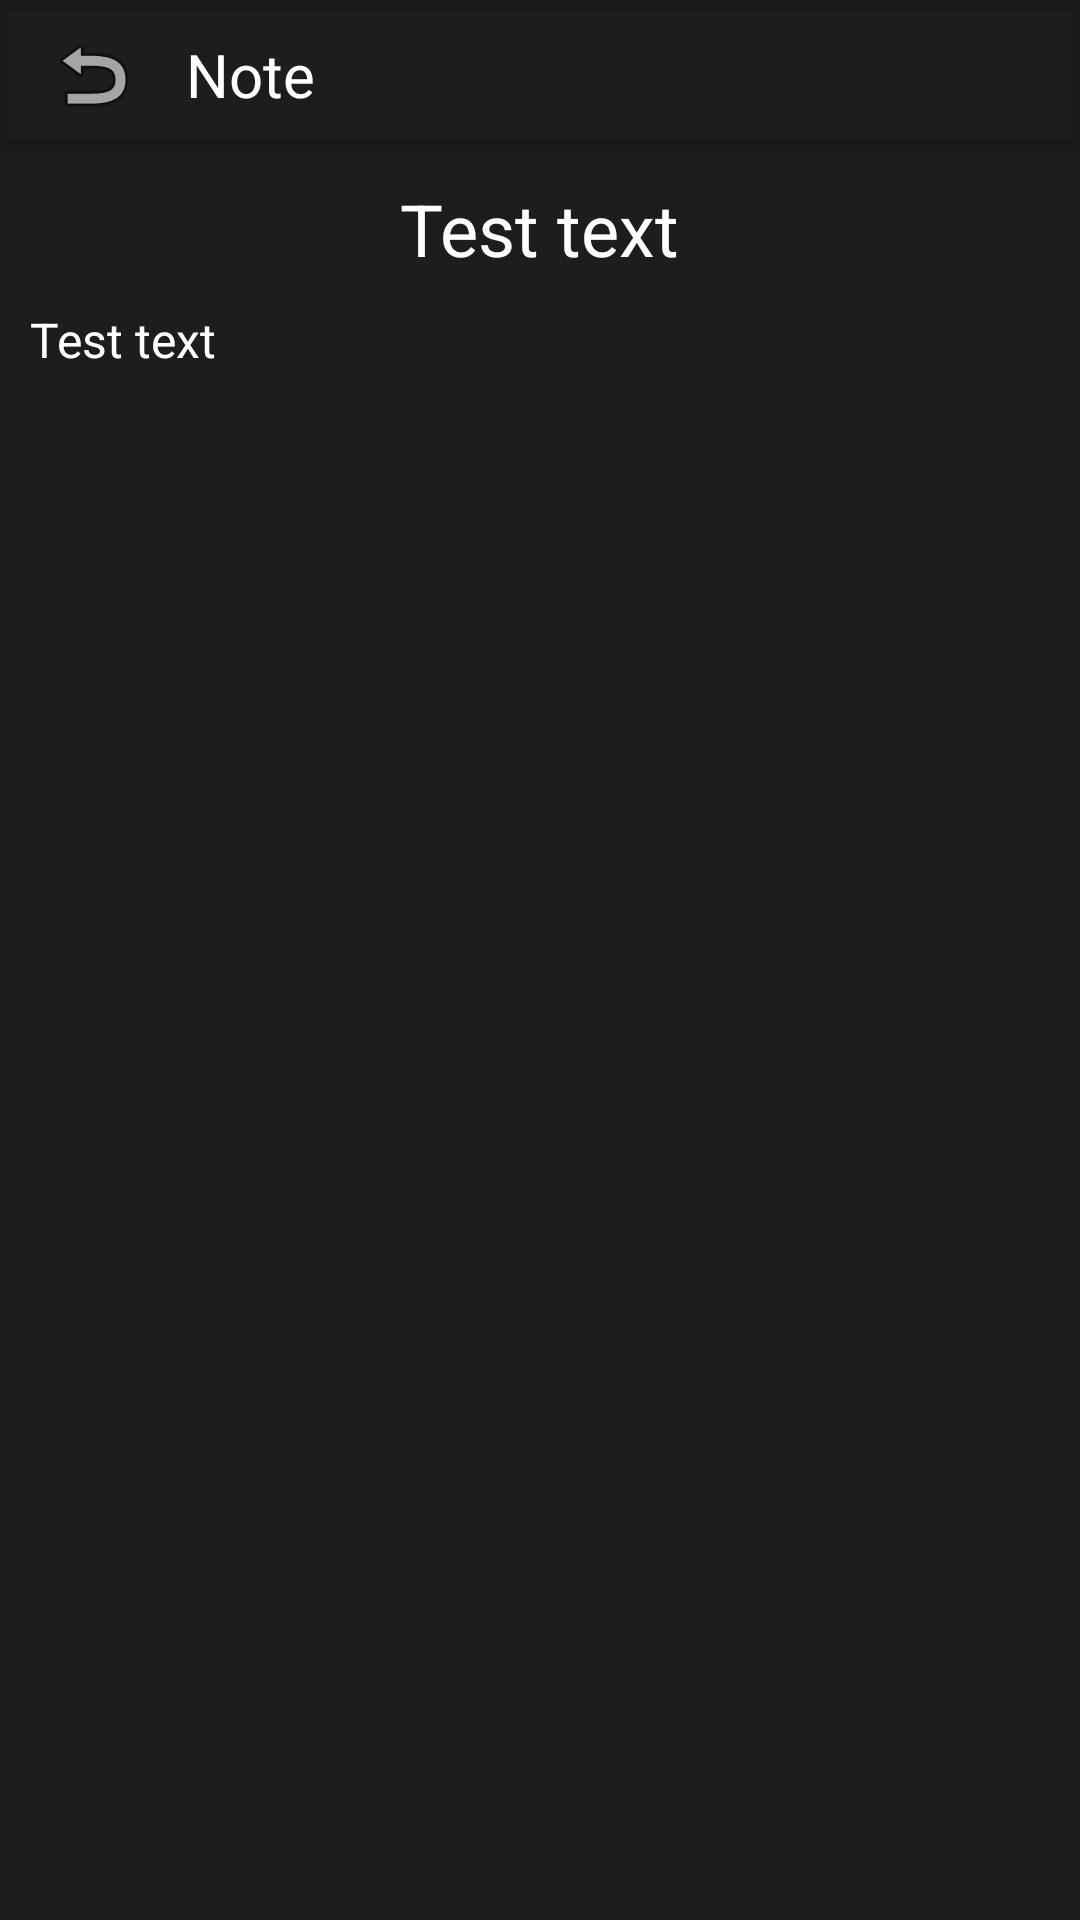

Icons on this 1080px×1920px Android screen, each with the point to tap as [x,y]:
revert: [94,75]
